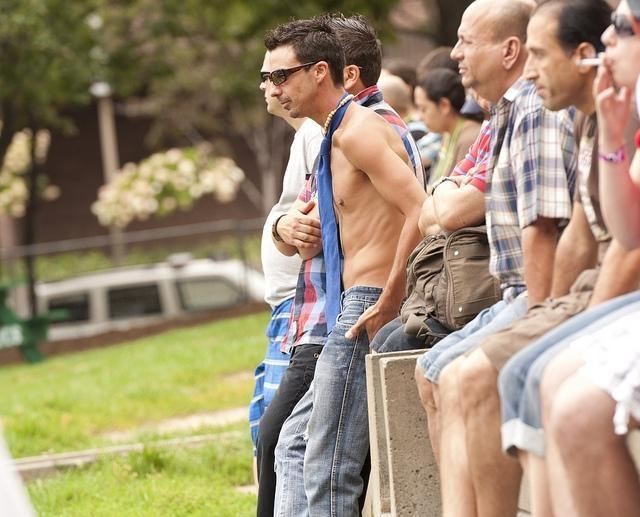truck: (3, 253, 262, 351)
